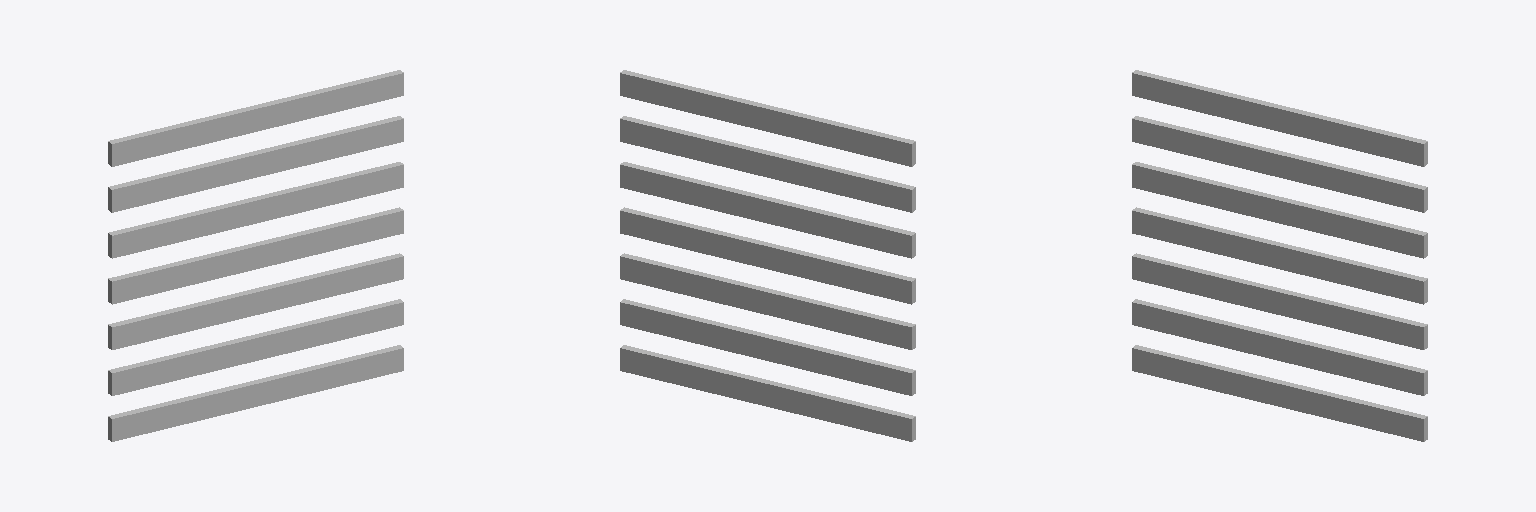
The model's file is electric fence.obj.
The picture shows the model from 3 angles: view 1: azimuth 30°, elevation 25°; view 2: azimuth 150°, elevation 25°; view 3: azimuth 330°, elevation 25°; orthographic projection.
Visible parts, largest first — view 1: object 1; view 2: object 1; view 3: object 1.
Boxes of the visible parts, <box> form: object 1: <box>108,70,403,441</box>; object 1: <box>620,70,915,441</box>; object 1: <box>1132,70,1427,441</box>.
Bounding box in the file's own units: 4 × 3.9 × 0.1.